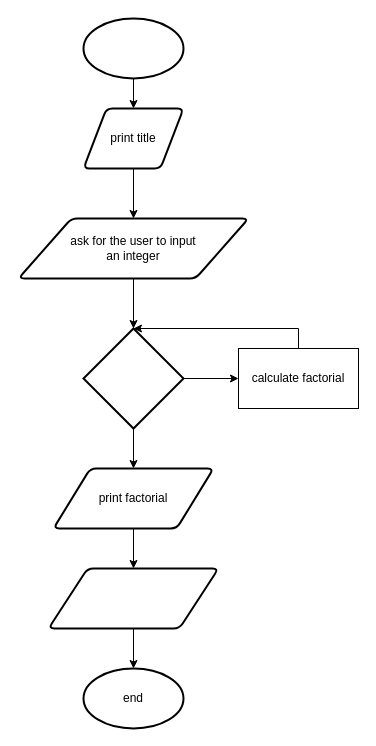
Image size: 376x746. Some labels were removed from this diagram. The centre of each missing label's shape, as x and y in pixels:
print program complete: point (133, 598)
start: point (133, 48)
user integer: point (133, 378)
